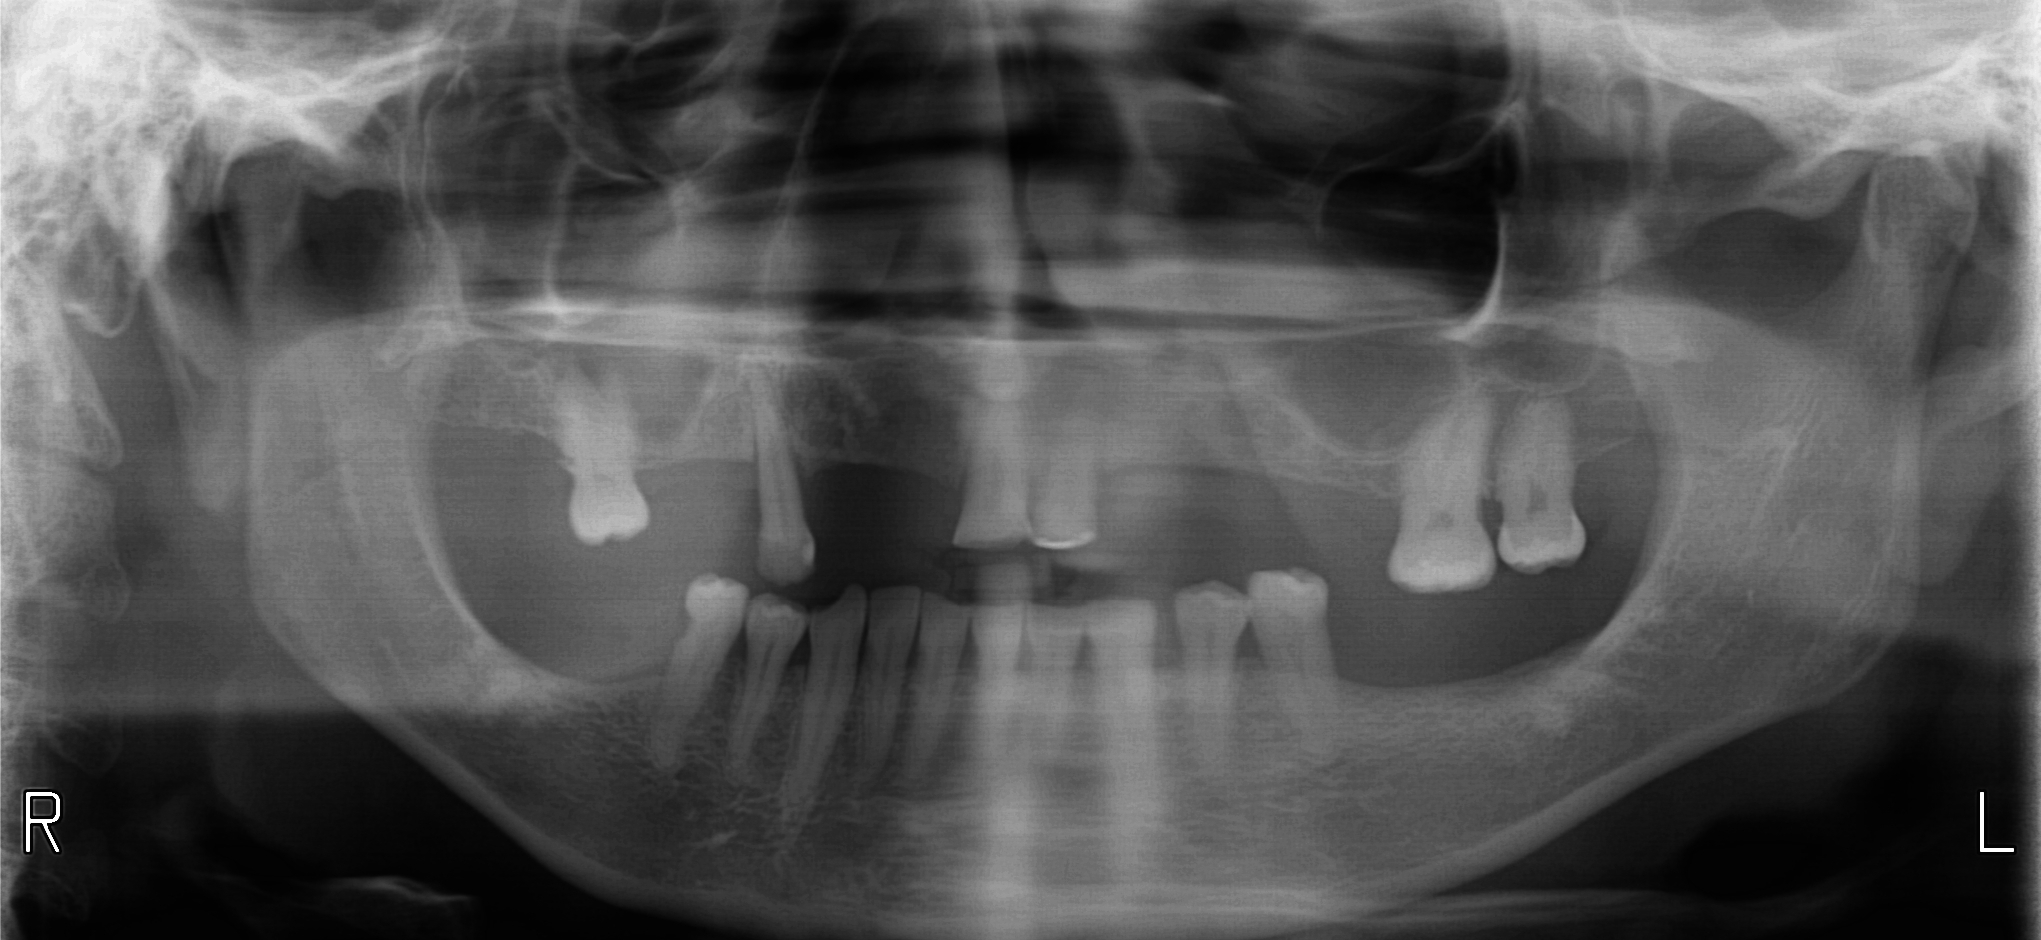cavity: (674, 601, 691, 641)
